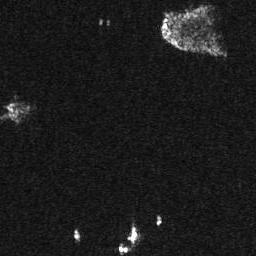ship: (127, 225, 139, 242), (156, 215, 162, 227), (74, 229, 80, 240)
